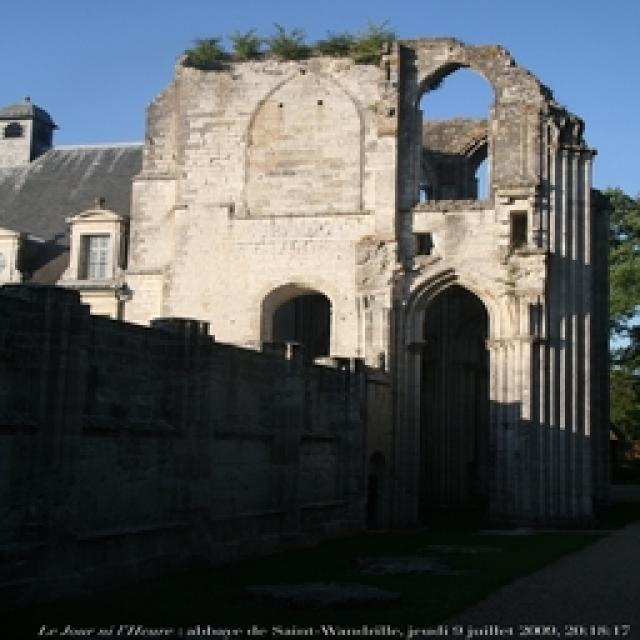Abbey: (388, 256, 521, 512)
